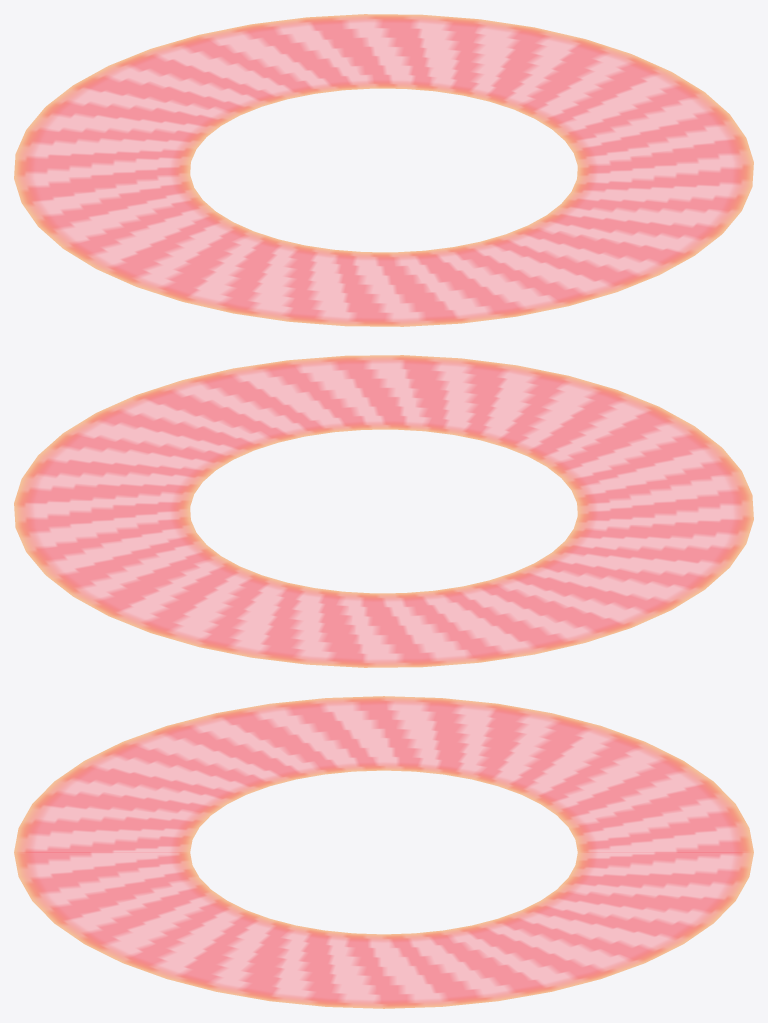
The model's file is fx_mring0_warn.glb.
3 renders of one model, top to bottom at view 1: azimuth 30°, elevation 25°; view 2: azimuth 150°, elevation 25°; view 3: azimuth 270°, elevation 25°, orthographic.
Parts seen in each view (by area): view 1: fx_warn; view 2: fx_warn; view 3: fx_warn.
Boxes of the visible parts, box(x1,y1,x2,y2) form: fx_warn: box(14, 14, 753, 326); fx_warn: box(14, 355, 753, 667); fx_warn: box(14, 696, 753, 1008).
Size of the model in its own units: 8.4 by 0 by 8.4.
Materials: 1 (1 with a texture image).
